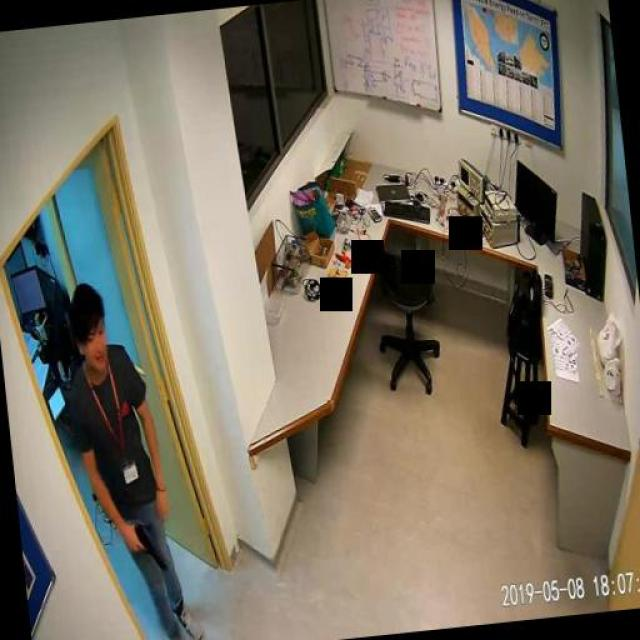gun: (130, 522, 165, 572)
